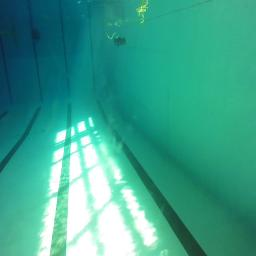Full: (113, 35, 127, 47)
